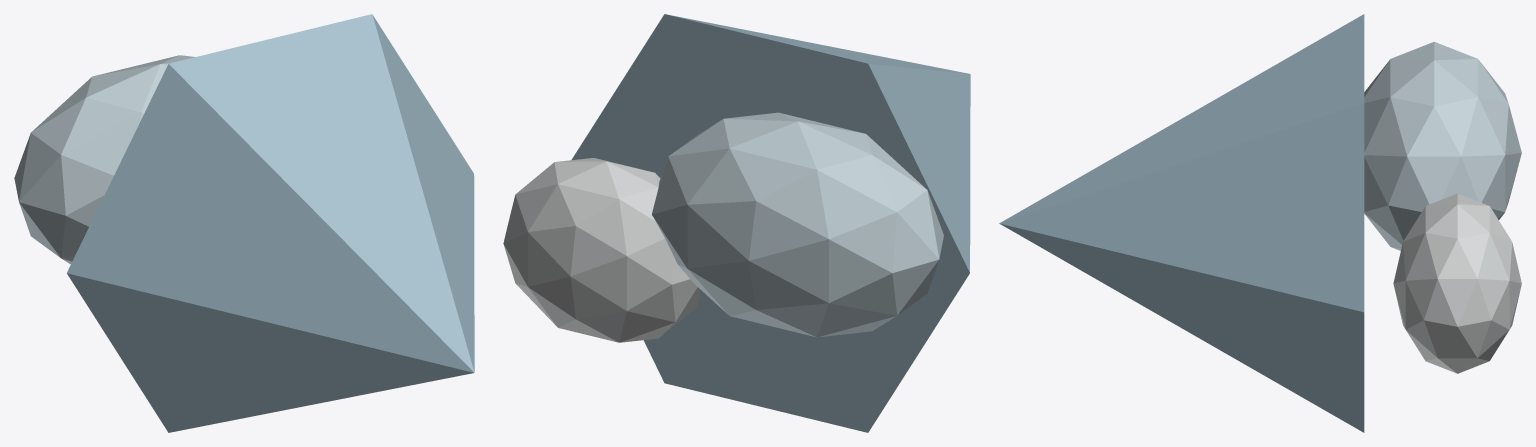
The model's file is ice_chunk.glb.
3 views of the same model, side by side, from view 1: azimuth 30°, elevation 25°; view 2: azimuth 150°, elevation 25°; view 3: azimuth 270°, elevation 25° (orthographic). The views are drawn at different scales.
Parts seen in each view (by area): view 1: ice_chunk_0, ice_chunk_1; view 2: ice_chunk_0, ice_chunk_1, ice_chunk_2; view 3: ice_chunk_0, ice_chunk_1, ice_chunk_2.
Boxes of the visible parts, box(x1,y1,x2,y2) form: ice_chunk_0: box(67, 14, 474, 432); ice_chunk_1: box(14, 55, 194, 264); ice_chunk_0: box(571, 14, 970, 432); ice_chunk_1: box(652, 112, 943, 337); ice_chunk_2: box(503, 158, 701, 342); ice_chunk_0: box(999, 14, 1364, 432); ice_chunk_1: box(1364, 41, 1521, 250); ice_chunk_2: box(1393, 193, 1521, 373).
Size of the model in its own units: 1.48 by 1.25 by 1.79.
